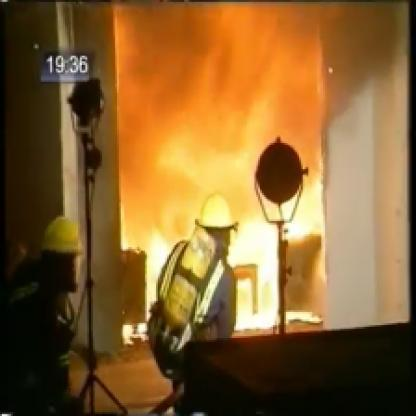fire: (89, 0, 338, 346)
